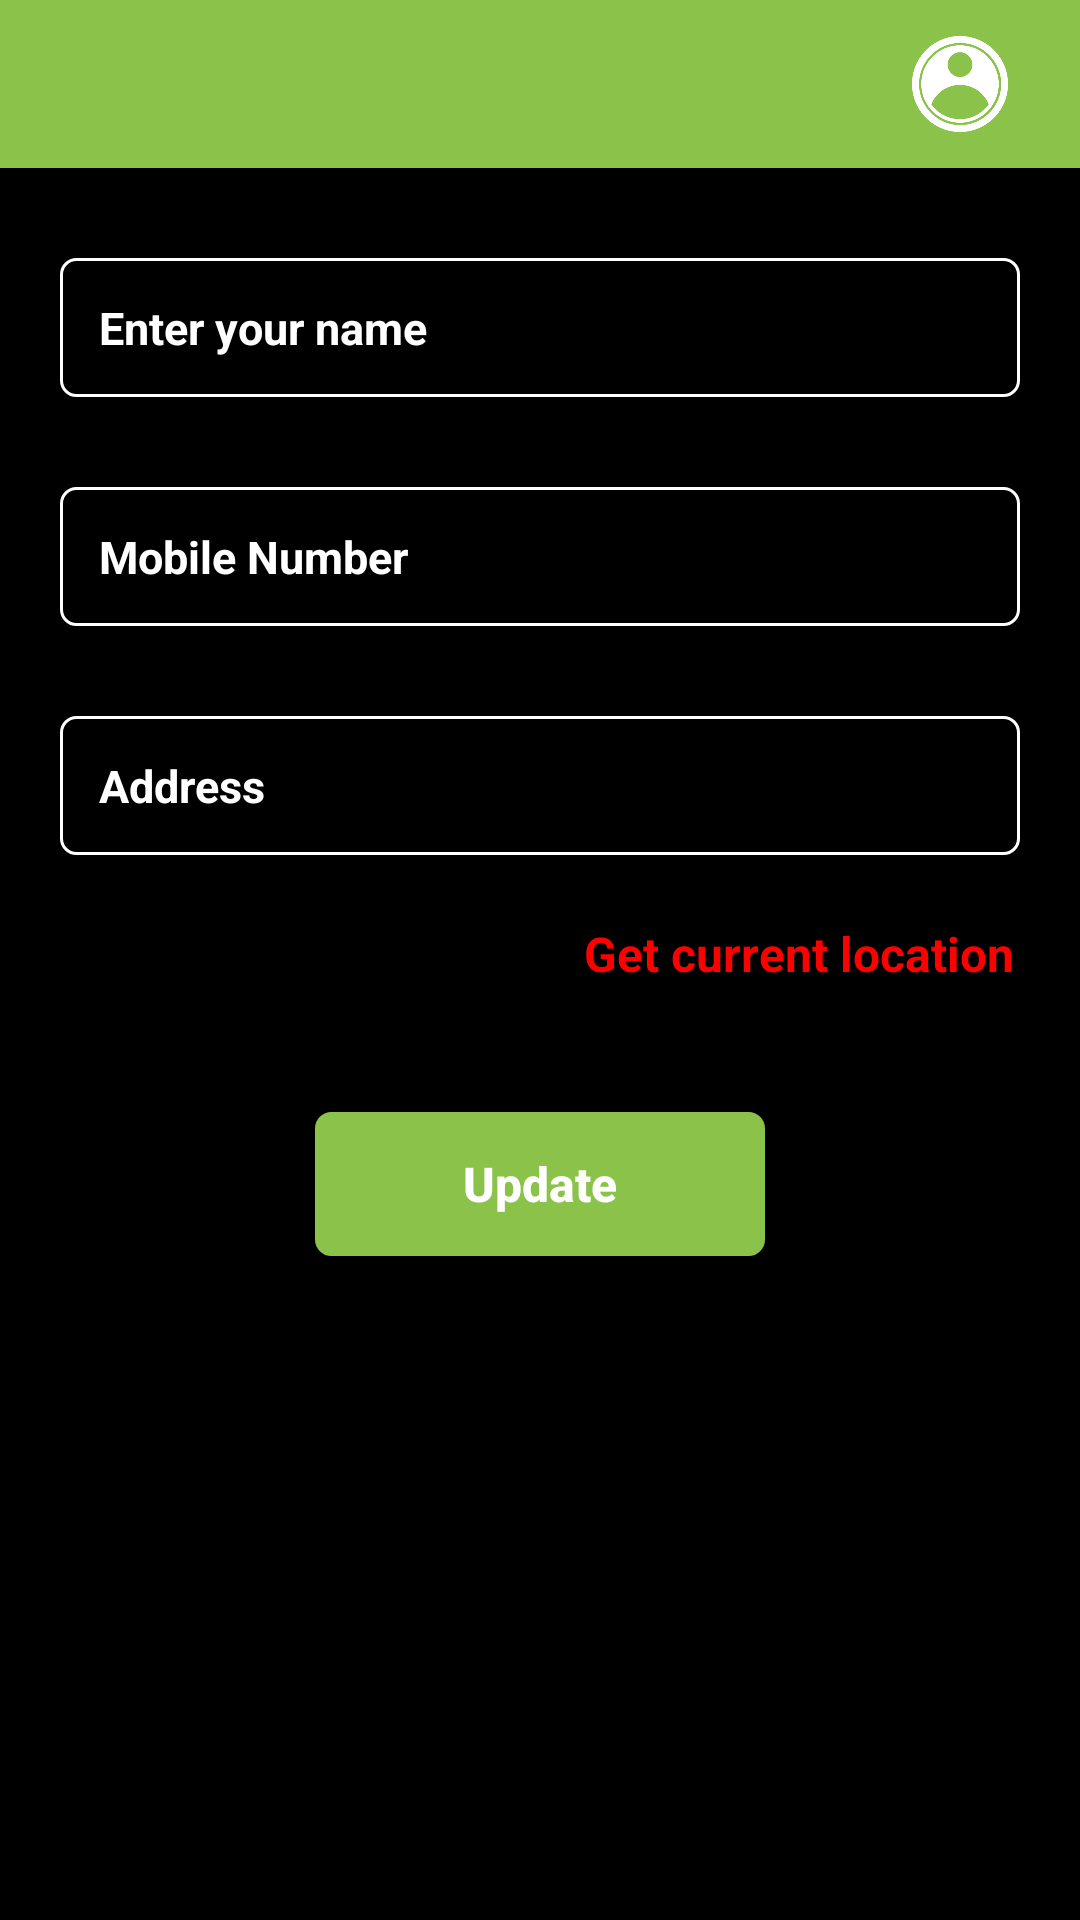

Named icons in this screenshot (1080px×1920px) and their centers, [x,y]:
userima: [960,84]
